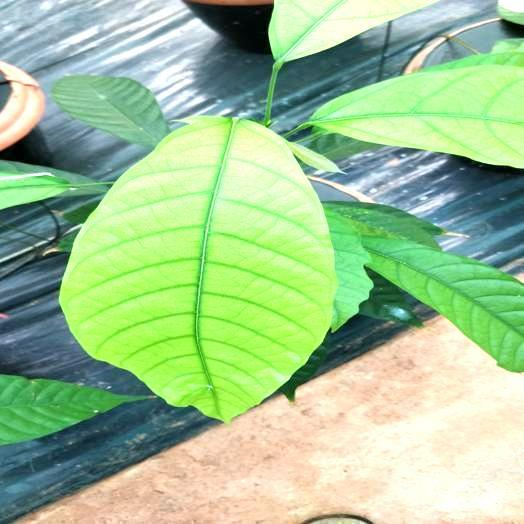Healthy Leaf: (363, 236, 523, 371), (0, 375, 146, 444), (53, 75, 169, 148), (324, 201, 445, 248), (0, 172, 73, 209)
Iron: (61, 117, 336, 421), (306, 65, 523, 168), (269, 0, 436, 65), (324, 211, 372, 331)
